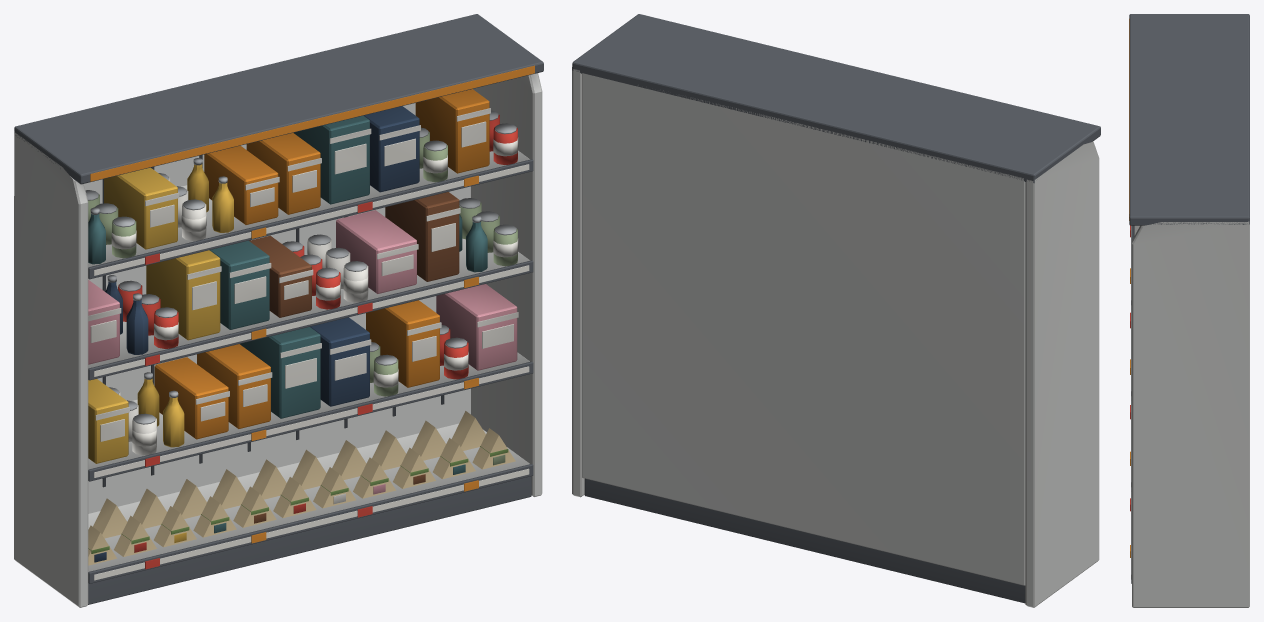
Rendered from groceryShelf.glb.
The picture shows the model from 3 angles, left to right: view 1: azimuth 30°, elevation 25°; view 2: azimuth 150°, elevation 25°; view 3: azimuth 270°, elevation 25°; orthographic projection. The views are drawn at different scales.
Parts seen in each view (by area): view 1: shelves; view 2: shelves; view 3: shelves.
Boxes of the visible parts, x1=… form: shelves: x1=14, y1=14, x2=543, y2=607; shelves: x1=572, y1=14, x2=1100, y2=607; shelves: x1=1129, y1=14, x2=1249, y2=607.
Size of the model in its own units: 1.92 by 1.72 by 0.481.
